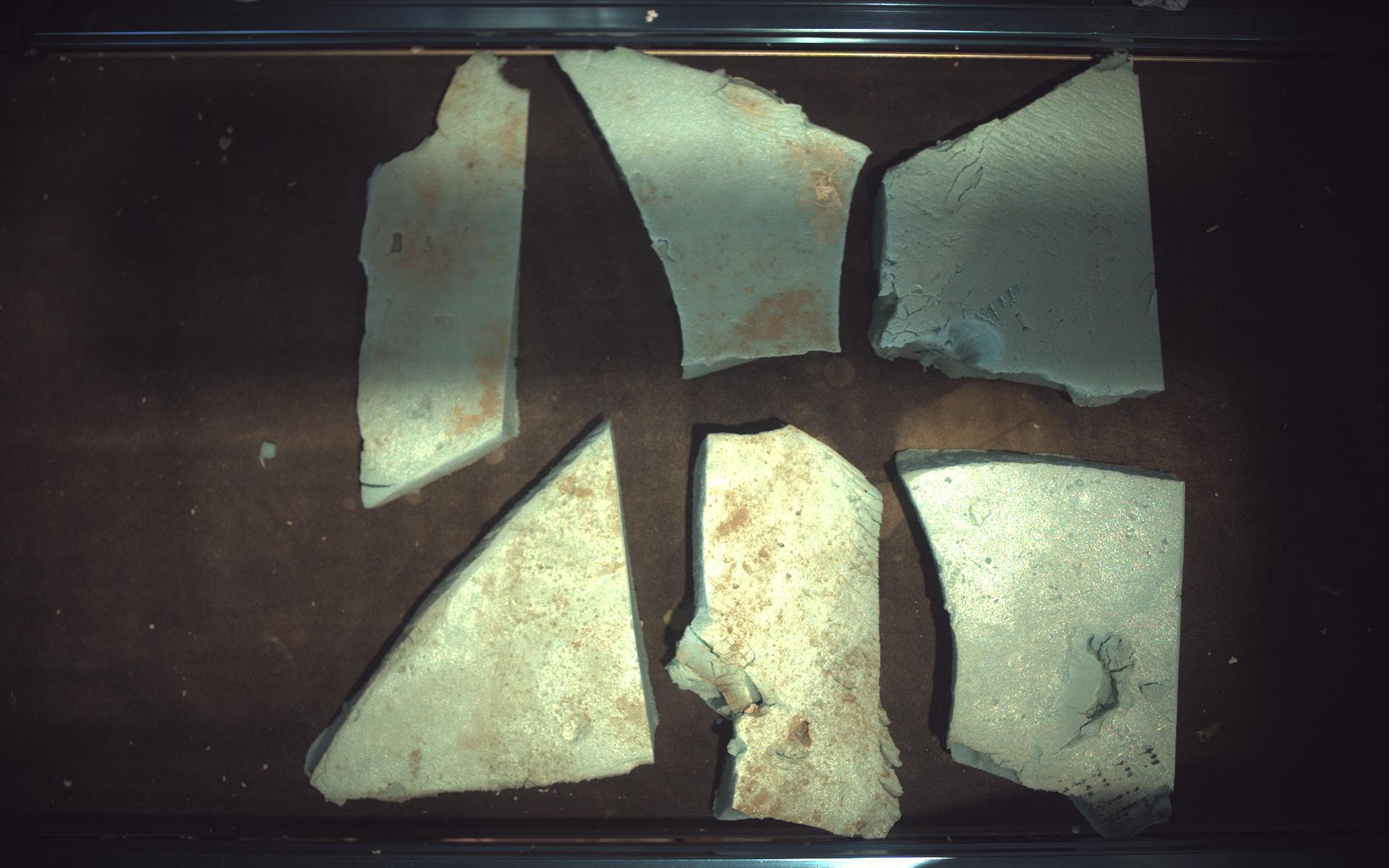foam: (306, 422, 655, 805), (898, 450, 1187, 839), (871, 52, 1167, 407), (556, 46, 871, 378), (668, 425, 904, 840), (357, 51, 529, 508)
